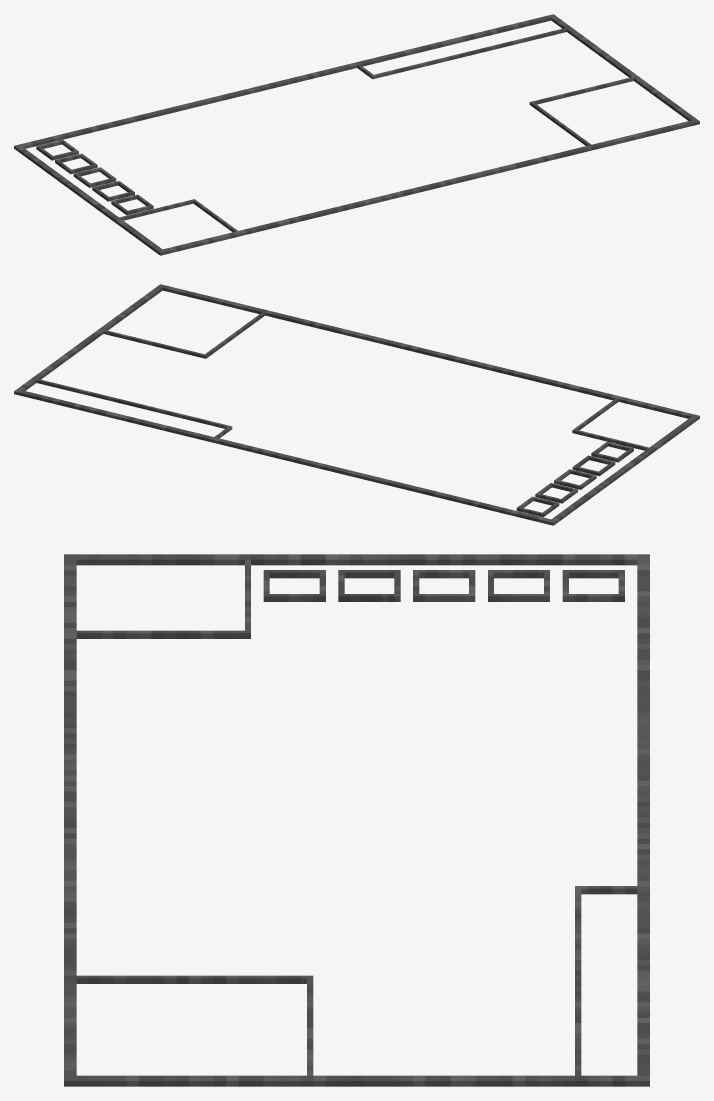
Rendered from battle_BASIC.fbx.
3 views of the same model, one above another, from view 1: azimuth 30°, elevation 25°; view 2: azimuth 150°, elevation 25°; view 3: azimuth 270°, elevation 25° (orthographic). The views are drawn at different scales.
Visible parts, largest first — view 1: Rectangle; view 2: Rectangle; view 3: Rectangle.
Boxes of the visible parts, x1,y1,x2,y2 form: Rectangle: [14, 14, 699, 255]; Rectangle: [14, 284, 699, 525]; Rectangle: [64, 554, 649, 1086].
Size of the model in its own units: 200 by 1 by 94.
